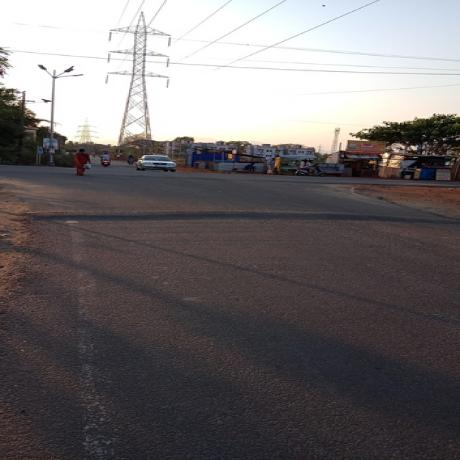Speed Bump: (26, 207, 459, 225)
